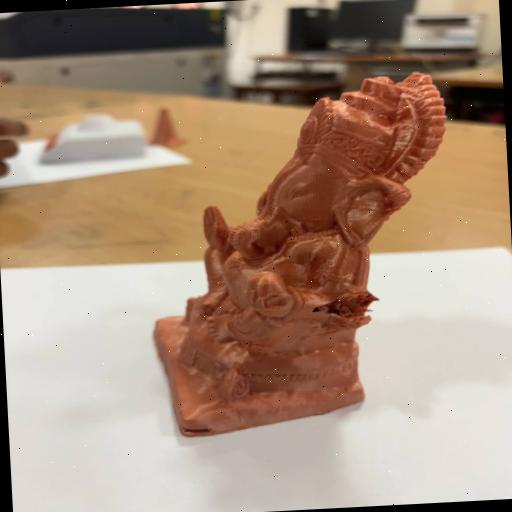cracks: (299, 276, 391, 348)
